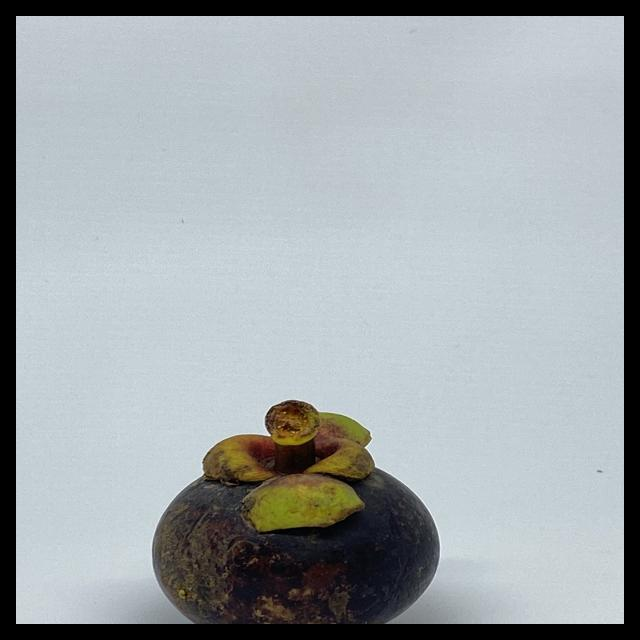mangosteen: (140, 388, 455, 624)
